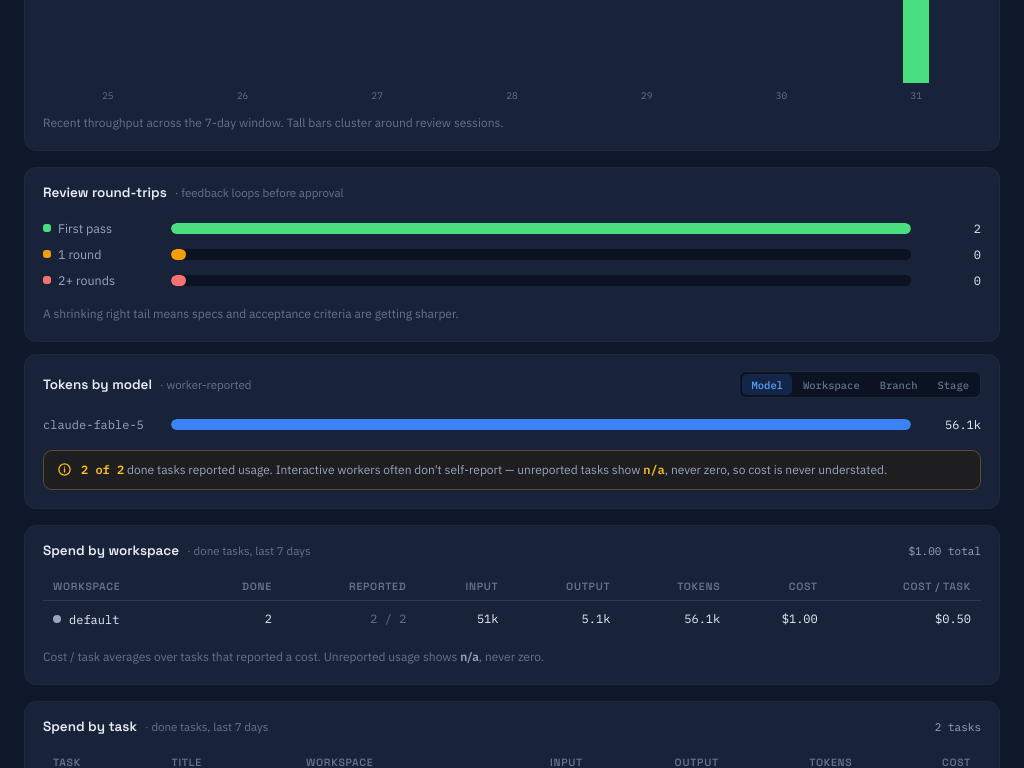
AnalyticsView › shows a per-branch tokens grouping with feature/ stripped
(page scrolled)
the tokens panel gains a Branch grouping that bars tokens per branch
Click the button "Branch" at (899, 384), box x1=871 y1=374 x2=926 y2=395
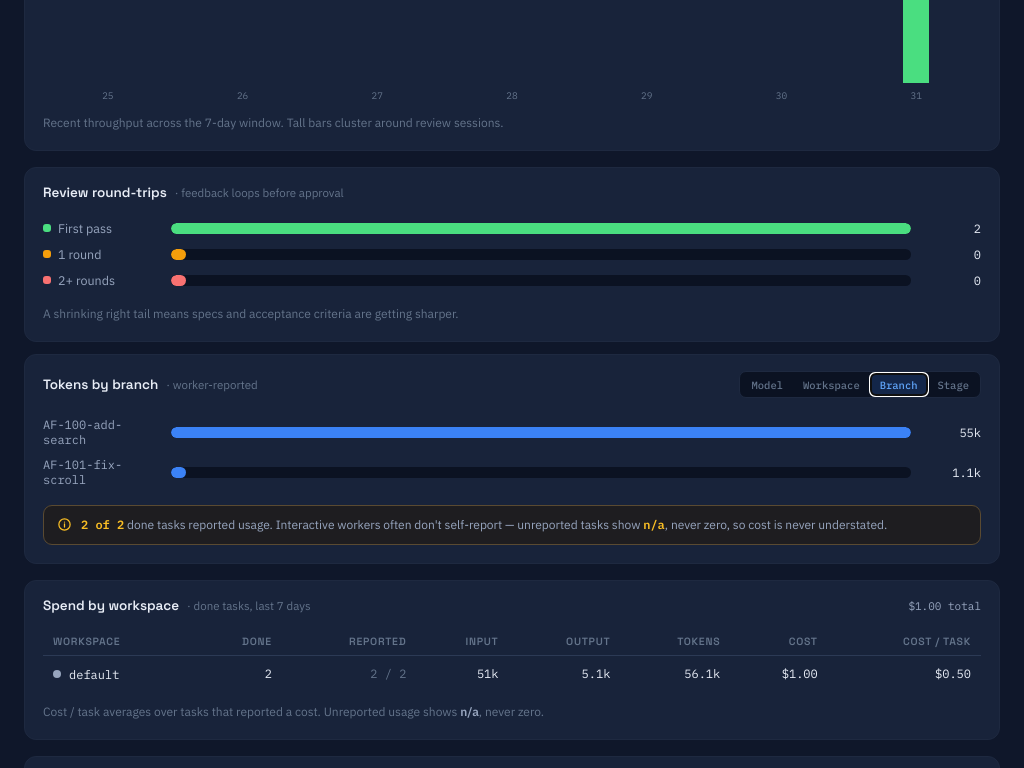
expect the heading "Tokens by branch" is shown: met, box x1=43 y1=376 x2=158 y2=392
expect the text "AF-100-add-search" is shown: met, box x1=43 y1=417 x2=122 y2=447
expect the text "AF-101-fix-scroll" is shown: met, box x1=43 y1=457 x2=122 y2=487
